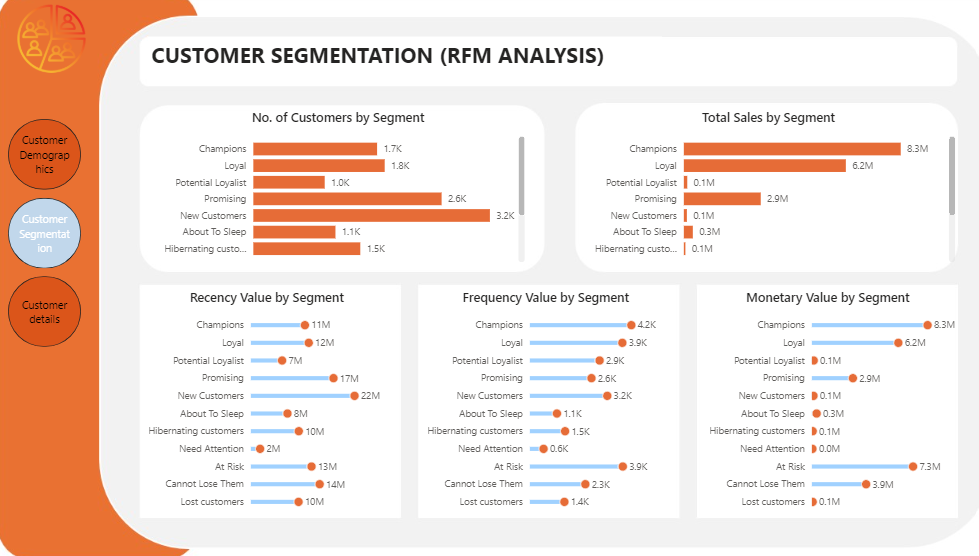

This screenshot's page, from the dashboard's own definition file:
{"tool":"powerbi","page":{"name":"Customer Segmentation","canvas":[1280,720],"ordinal":1},"visuals":[{"type":"barChart","title":"No. of Customers by Segment","fields":{"Y":["Count(FactInternetSales.CustomerKey)"],"Category":["Segments Table.Segment"]},"box":[190.9,145.5,480,198.4],"z":0},{"type":"barChart","title":"Total Sales by Segment","fields":{"Category":["Segments Table.Segment"],"Y":["Sum(FactInternetSales.SalesAmount)"]},"box":[733.2,145.5,480,198.4],"z":1000},{"type":"barChart","title":" Recency Value by Segment","fields":{"Y":["Sum(RFM Table.Recency Value)"],"Category":["Segments Table.Segment"]},"box":[175.7,372.3,330.7,285.4],"z":2000},{"type":"barChart","title":" Frequency Value by Segment","fields":{"Category":["Segments Table.Segment"],"Y":["Sum(RFM Table.Frequency Value)"]},"box":[527.2,372.3,330.7,285.4],"z":3000},{"type":"barChart","title":"Monetary Value by Segment","fields":{"Category":["Segments Table.Segment"],"Y":["Sum(RFM Table.Monetary Value)"]},"box":[882.5,372.3,330.7,285.4],"z":4000},{"type":"textbox","box":[190.9,54.8,648.2,60.5],"z":5000},{"type":"pageNavigator","box":[15.1,158.7,92.6,287.2],"z":6000},{"type":"image","box":[18.9,13.2,102,88.8],"z":7000}]}

Visuals, with their boxes in screenshot pixels (x1, y1, x2, y2), scaled from the page's 1280x720 canvas onto the 979x556 screenshot:
"No. of Customers by Segment" barChart: [left=146, top=112, right=513, bottom=266]
"Total Sales by Segment" barChart: [left=561, top=112, right=928, bottom=266]
" Recency Value by Segment" barChart: [left=134, top=287, right=387, bottom=508]
" Frequency Value by Segment" barChart: [left=403, top=287, right=656, bottom=508]
"Monetary Value by Segment" barChart: [left=675, top=287, right=928, bottom=508]
textbox: [left=146, top=42, right=642, bottom=89]
pageNavigator: [left=12, top=123, right=82, bottom=344]
image: [left=14, top=10, right=92, bottom=79]
